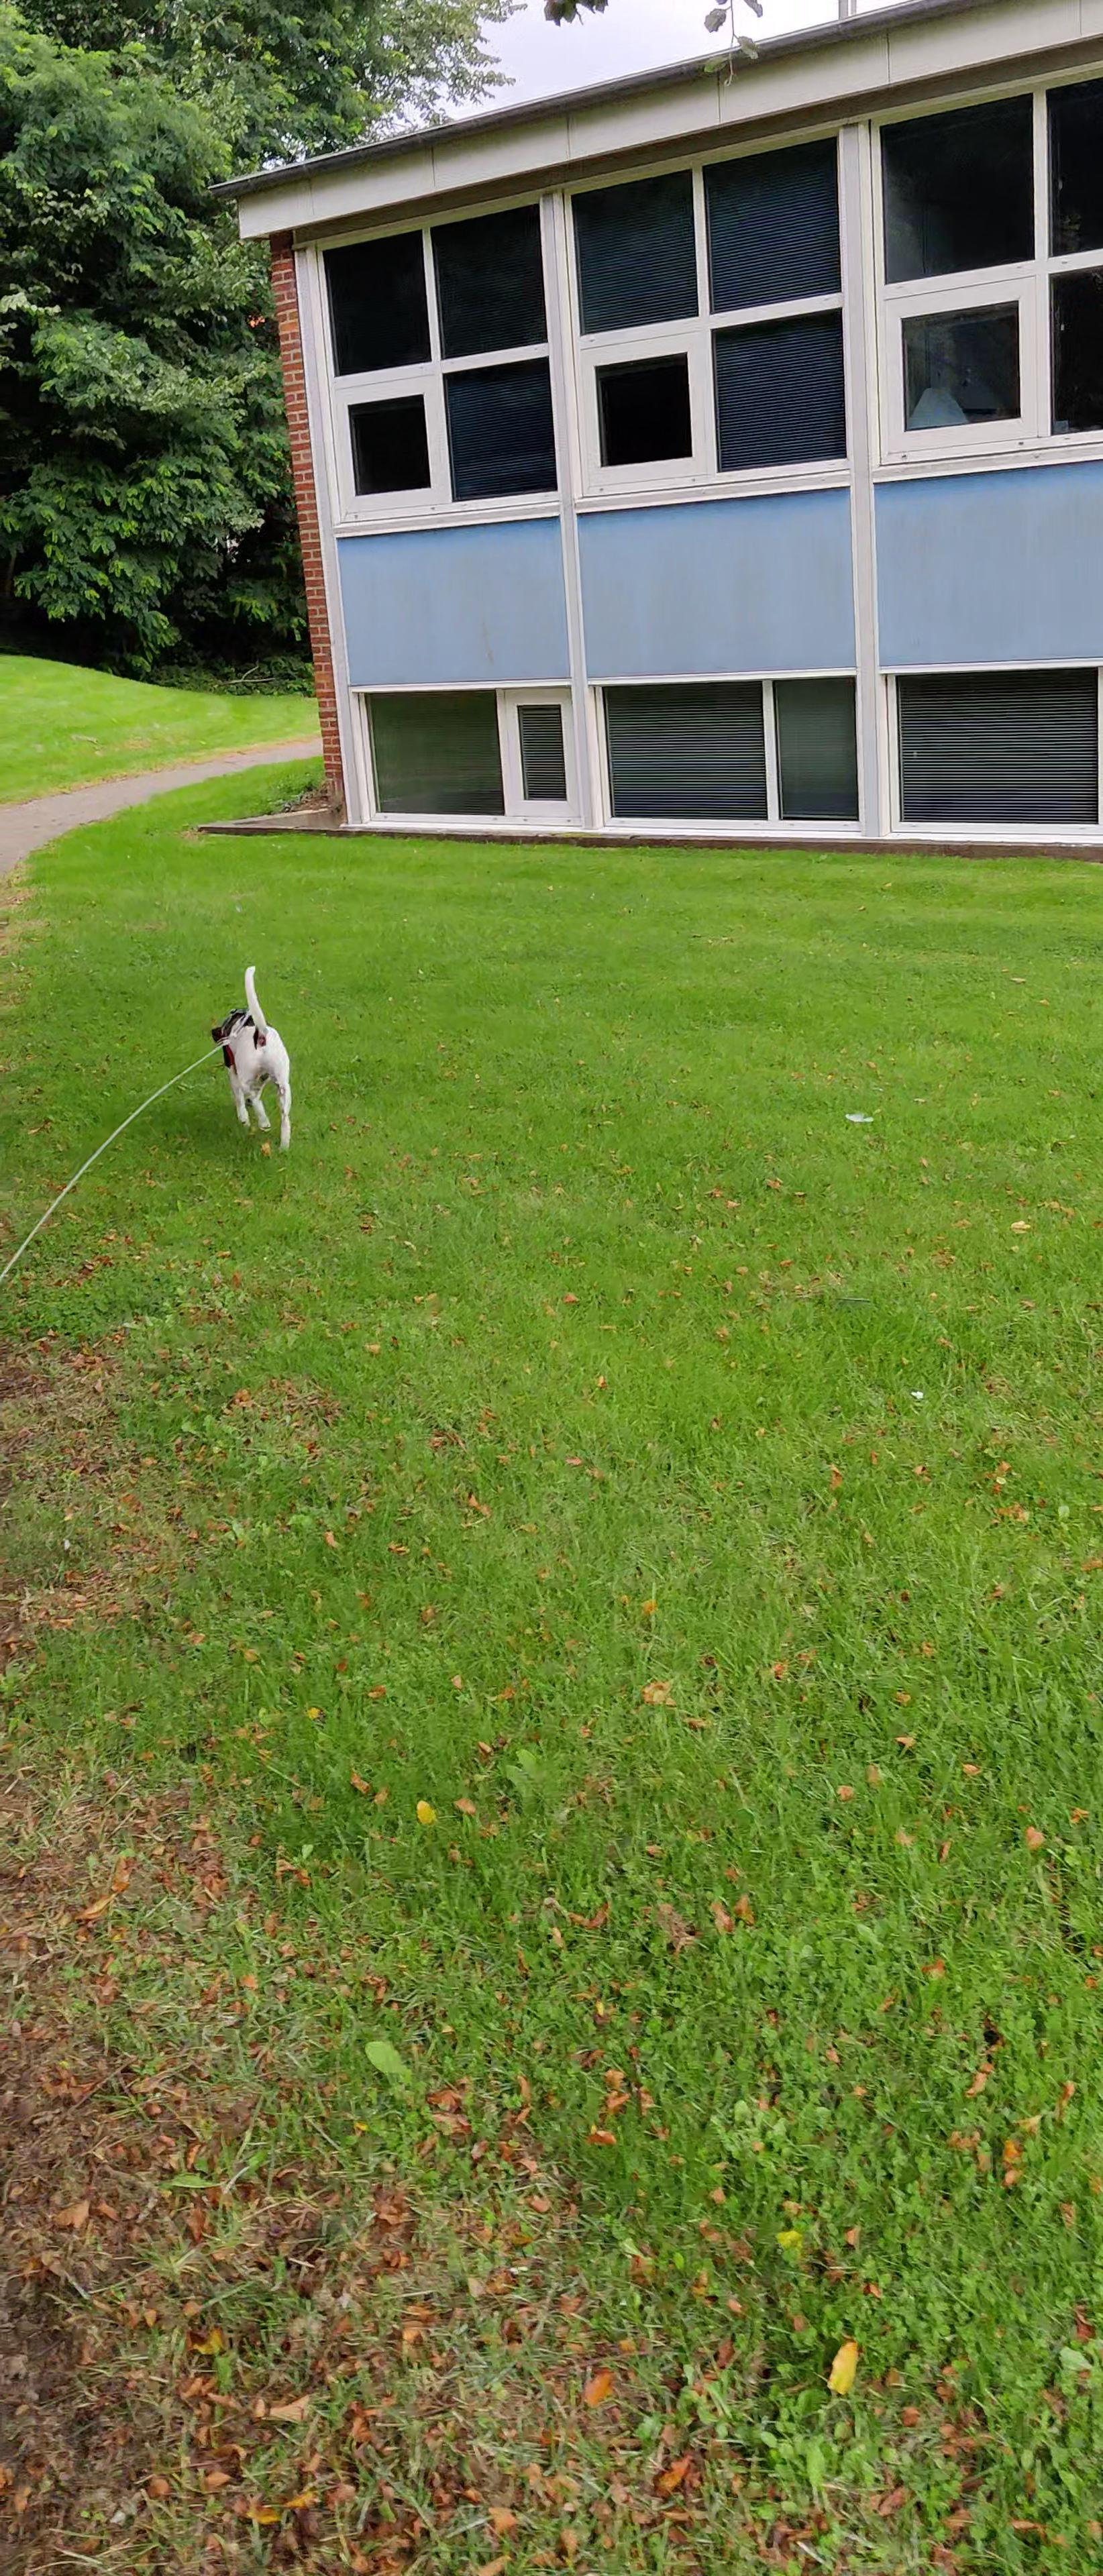Dog: (196, 958, 304, 1157)
